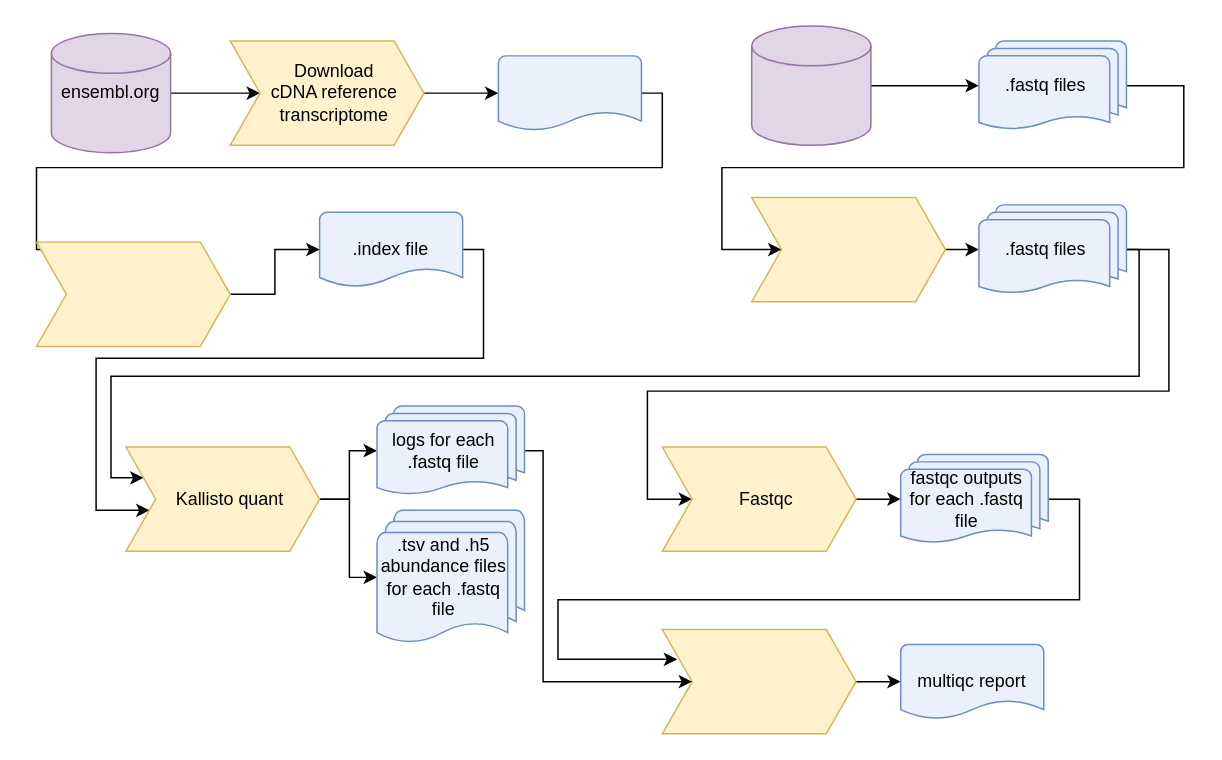
This 1222x760 diagram has some shape labels left out. The shapes that lost their labels are listed below. From the top down, each one's centre as x and y in pixels, then its label:
At point (569, 92): ".fasta file".
At point (810, 85): "Sequence Source".
At point (847, 249): "File name/folder rearrangement".
At point (132, 293): "Kallisto build index".
At point (758, 681): "Multiqc".
